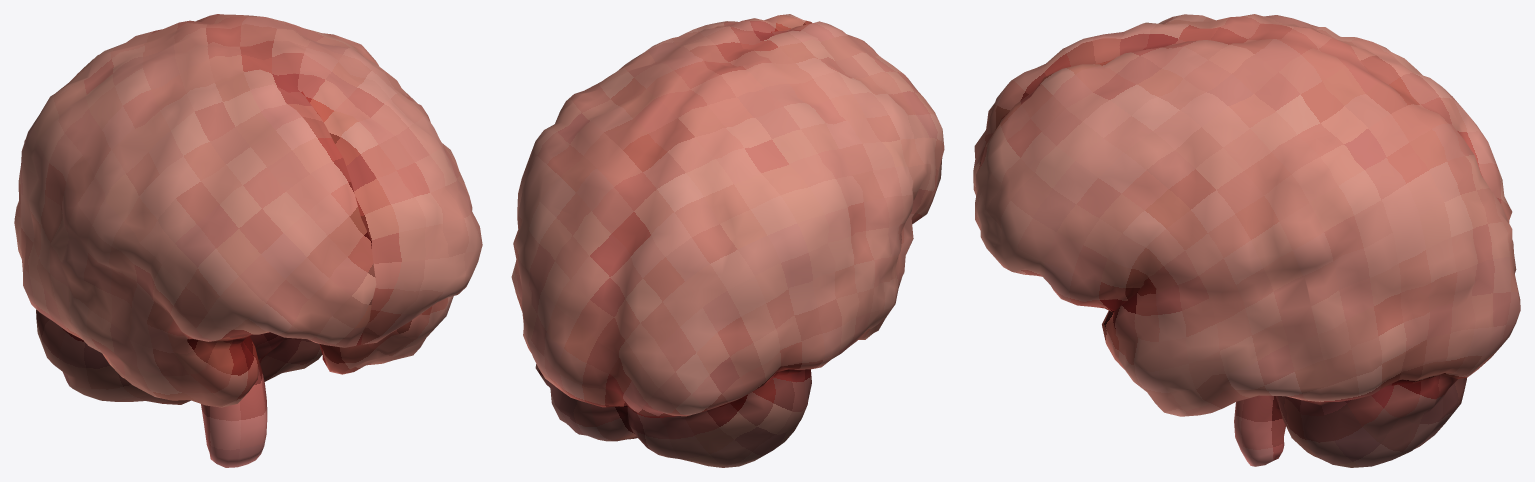
The model's file is morph-now.glb.
3 views of the same model, side by side, from view 1: azimuth 30°, elevation 25°; view 2: azimuth 150°, elevation 25°; view 3: azimuth 270°, elevation 25° (orthographic). The views are drawn at different scales.
Visible parts, largest first — view 1: Object_5; view 2: Object_5; view 3: Object_5.
Boxes of the visible parts, x1,y1,x2,y2 form: Object_5: (14,14,482,467); Object_5: (511,14,944,467); Object_5: (973,14,1520,467).
Bounding box in the file's own units: 0.7609 × 0.8546 × 0.991.
1 material, 1 textured.
